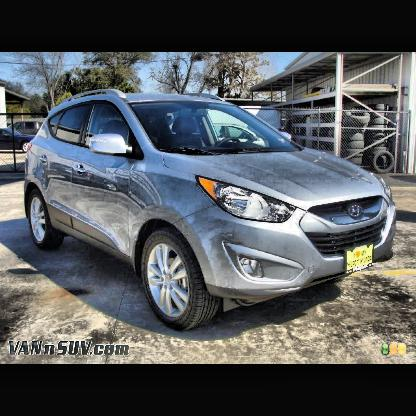Hyundai Tucson SUV 2012: (23, 87, 397, 328)
